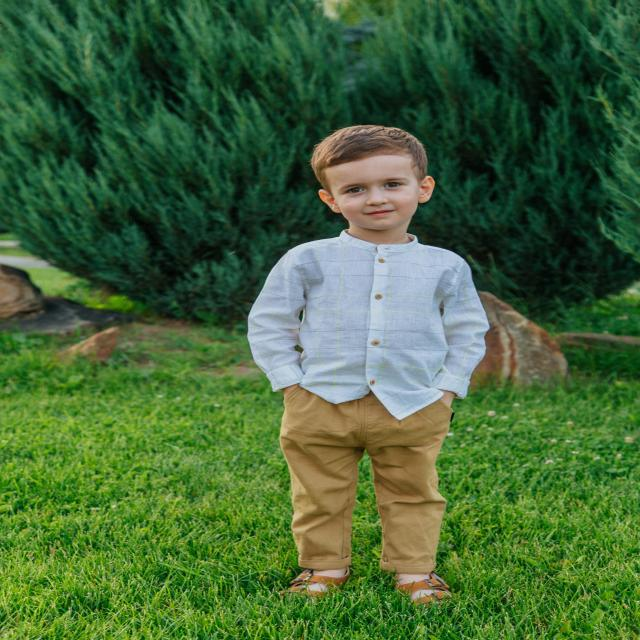non-dog: (247, 124, 490, 611)
